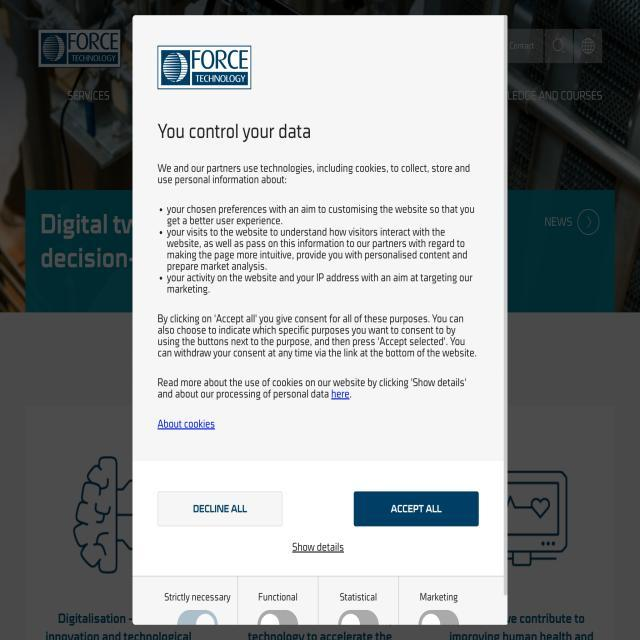button: (343, 483, 488, 531), (149, 486, 297, 533)
modal: (123, 4, 522, 636)
text: (149, 154, 481, 404)
